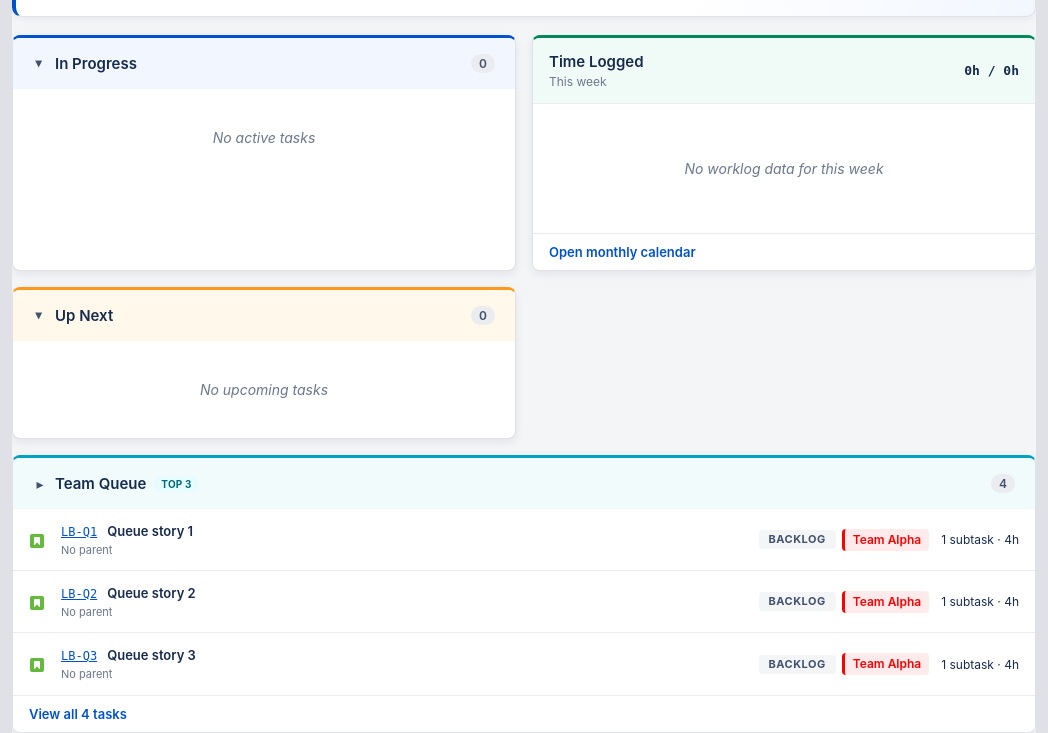
MyWorkPage › previews three Team Queue rows and reveals the rest on demand
(page scrolled)
Expected: the link "LB-Q1" is shown, [61,524,97,538]
Expected: the link "LB-Q3" is shown, [61,649,97,663]
Click the button "View all 4 tasks".
click(55, 714)  # box [13,695,1035,732]
(page scrolled)
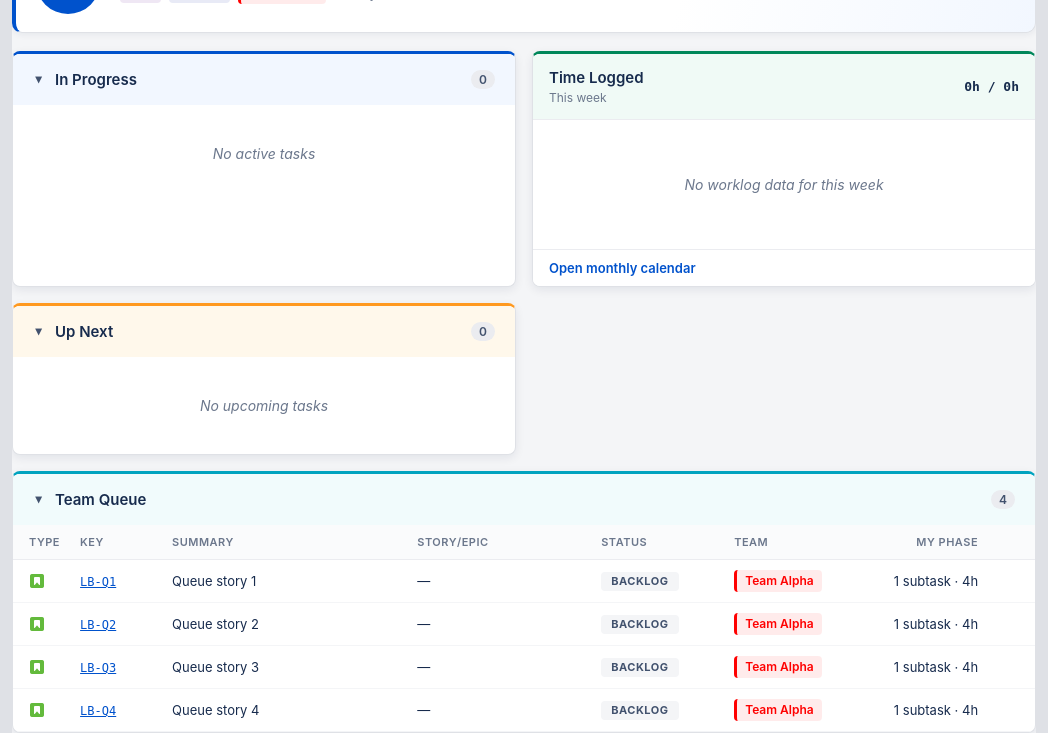
Now the link "LB-Q4" is shown, box [80,704,116,718]
Now the button "▸ Team Queue 4" is expanded, box [13,474,1035,525]
